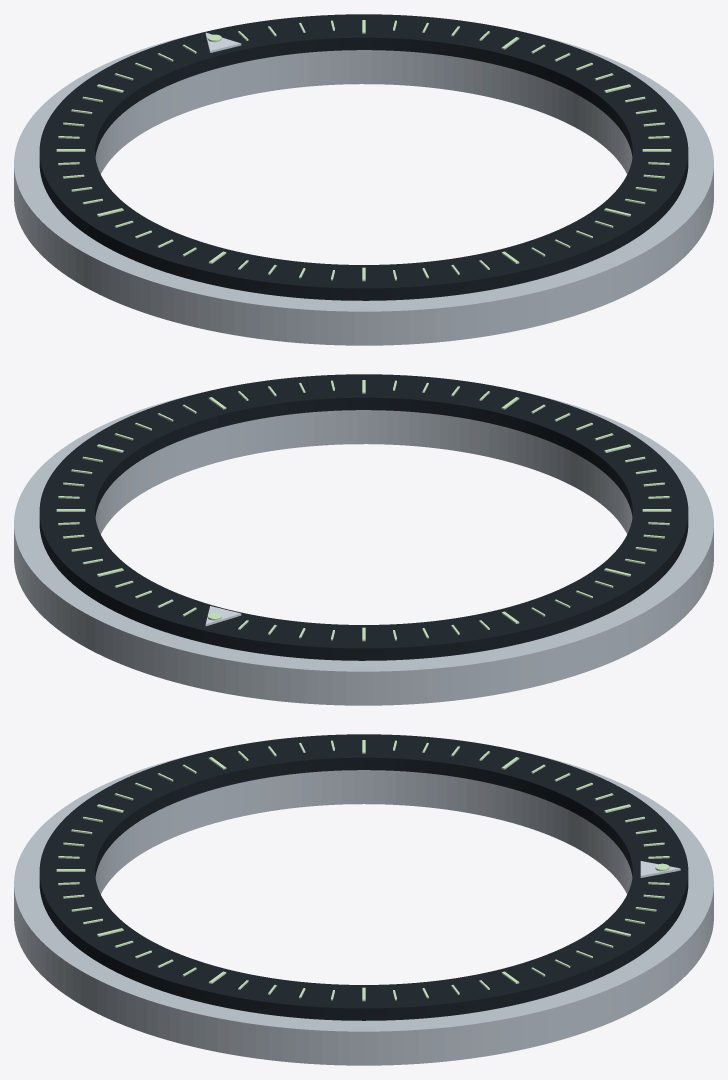
Rendered from bezel.glb.
The picture shows the model from 3 angles, top to bottom: view 1: azimuth 30°, elevation 25°; view 2: azimuth 150°, elevation 25°; view 3: azimuth 270°, elevation 25°; orthographic projection.
Visible parts, largest first — view 1: DD_REF42_BEZEL_CARRIER, DD_REF42_BEZEL_INSERT; view 2: DD_REF42_BEZEL_CARRIER, DD_REF42_BEZEL_INSERT; view 3: DD_REF42_BEZEL_CARRIER, DD_REF42_BEZEL_INSERT.
Part boxes in pixels (left/top/right/bottom): DD_REF42_BEZEL_CARRIER: left=14, top=34, right=713, bottom=345; DD_REF42_BEZEL_INSERT: left=39, top=14, right=688, bottom=300; DD_REF42_BEZEL_CARRIER: left=14, top=394, right=713, bottom=705; DD_REF42_BEZEL_INSERT: left=39, top=374, right=688, bottom=660; DD_REF42_BEZEL_CARRIER: left=14, top=754, right=713, bottom=1065; DD_REF42_BEZEL_INSERT: left=39, top=734, right=688, bottom=1020.
Size of the model in its own units: 41 by 3.3 by 41.
